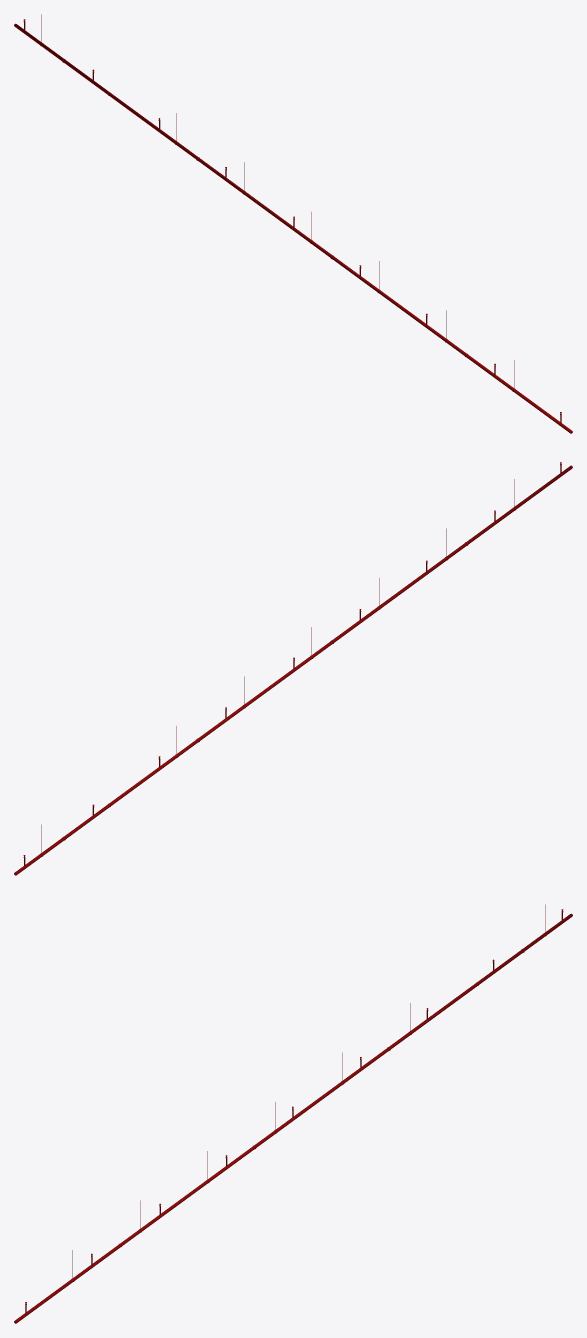
File: Sprinklers.fbx
3 views of the same model, one above another, from view 1: azimuth 30°, elevation 25°; view 2: azimuth 150°, elevation 25°; view 3: azimuth 330°, elevation 25° (orthographic).
Visible parts, largest first — view 1: Sprinklers; view 2: Sprinklers; view 3: Sprinklers.
Boxes of the visible parts, x1=… form: Sprinklers: x1=14, y1=14, x2=572, y2=433; Sprinklers: x1=14, y1=462, x2=572, y2=875; Sprinklers: x1=14, y1=904, x2=572, y2=1323.
Bounding box in the file's own units: 7.4 × 66.14 × 2073.
